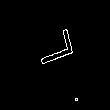L_W: (31, 33, 79, 77)
